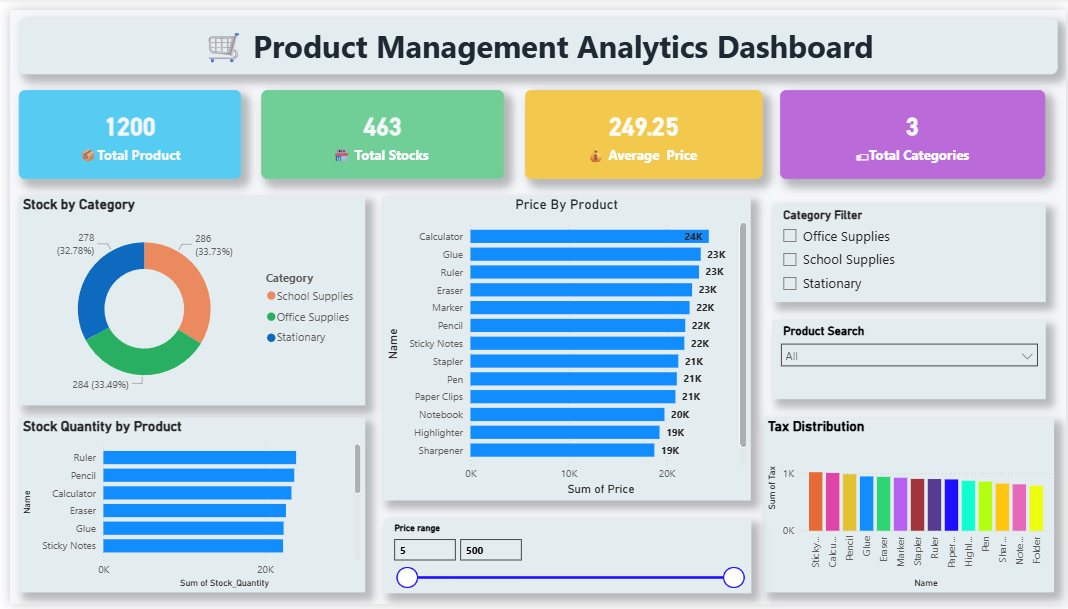

This screenshot's page, from the dashboard's own definition file:
{"tool":"powerbi","page":{"name":"Page 1","canvas":[1280,720],"ordinal":0},"visuals":[{"type":"card","fields":{"Values":["Count(Products.Product_ID)"]},"box":[11,96.9,269.9,108],"z":0},{"type":"card","fields":{"Values":["Count(Products.Stock_Quantity)"]},"box":[304.3,96.9,294.5,108],"z":1000},{"type":"card","fields":{"Values":["Avg(Products.Price)"]},"box":[624.5,96.9,288.3,108],"z":2000},{"type":"card","fields":{"Values":["Count(Products.Category)"]},"box":[933.7,96.9,321.5,108],"z":3000},{"type":"textbox","box":[11,8.6,1258.9,68.7],"z":4000},{"type":"donutChart","fields":{"Y":["Count(Products.Stock_Quantity)"],"Category":["Products.Category"]},"box":[11,225.8,419.6,254],"z":5000},{"type":"clusteredBarChart","fields":{"Y":["Sum(Products.Price)"],"Category":["Products.Name"]},"box":[451.5,225.8,445.4,368.1],"z":6000},{"type":"slicer","fields":{"Values":["Products.Category"]},"box":[923.9,234.4,331.3,119],"z":7000},{"type":"clusteredBarChart","fields":{"Y":["Sum(Products.Stock_Quantity)"],"Category":["Products.Name"]},"box":[11,493.3,419.6,212.3],"z":8000},{"type":"clusteredColumnChart","fields":{"Y":["Sum(Products.Tax)"],"Category":["Products.Name"]},"box":[912.9,493.3,352.1,200],"z":9000}]}

Visuals, with their boxes in screenshot pixels (x1, y1, x2, y2), scaled from the page's 1280x720 canvas onto the 1068x609 screenshot:
card - Count(Products.Product_ID): select_region(9, 82, 234, 173)
card - Count(Products.Stock_Quantity): select_region(254, 82, 500, 173)
card - Avg(Products.Price): select_region(521, 82, 762, 173)
card - Count(Products.Category): select_region(779, 82, 1047, 173)
textbox: select_region(9, 7, 1060, 65)
donutChart - Count(Products.Stock_Quantity) x Products.Category: select_region(9, 191, 359, 406)
clusteredBarChart - Sum(Products.Price) x Products.Name: select_region(377, 191, 748, 502)
slicer - Products.Category: select_region(771, 198, 1047, 299)
clusteredBarChart - Sum(Products.Stock_Quantity) x Products.Name: select_region(9, 417, 359, 597)
clusteredColumnChart - Sum(Products.Tax) x Products.Name: select_region(762, 417, 1055, 586)
